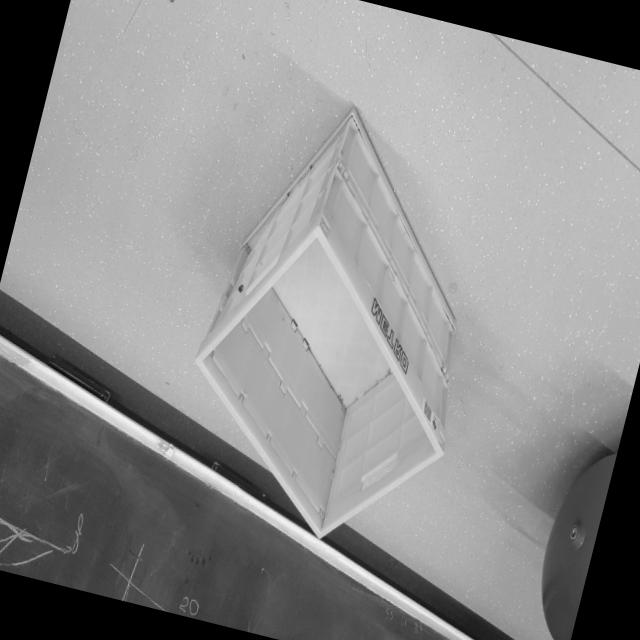box: (140, 59, 532, 602)
